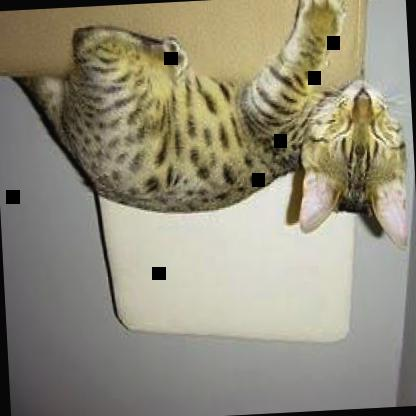cat: (5, 0, 414, 272)
